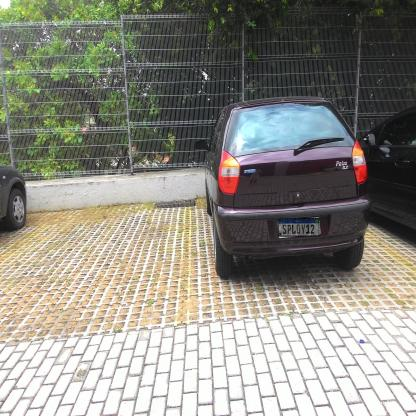PlacaM: (278, 218, 320, 237)
